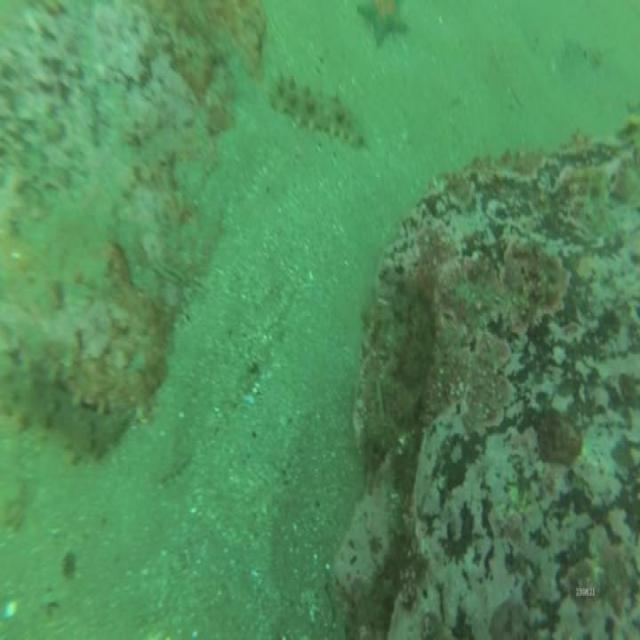holothurian: (0, 365, 134, 469), (266, 71, 364, 152)
starfish: (356, 0, 411, 52)
